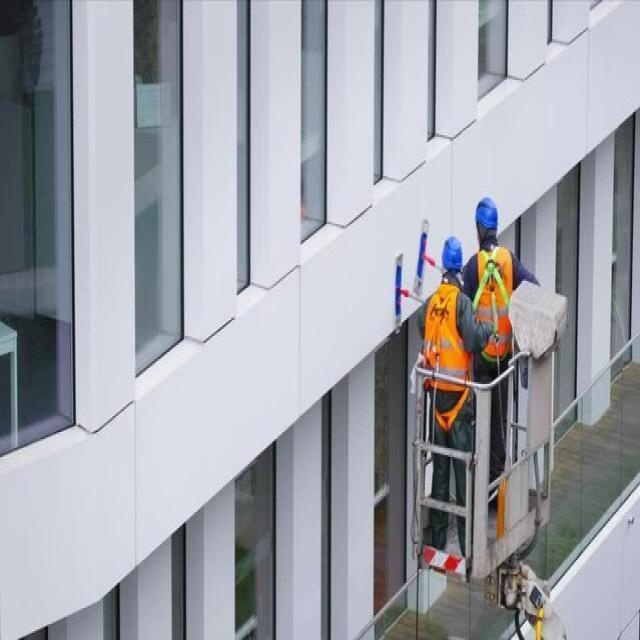Arnes_seguridad: (421, 279, 472, 393), (468, 243, 514, 361)
